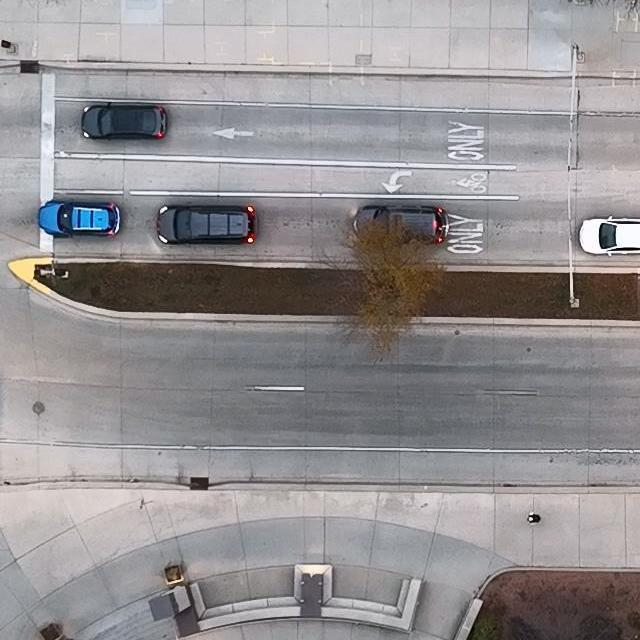car: (158, 203, 256, 245), (354, 204, 450, 244), (80, 102, 167, 140), (38, 200, 121, 238), (579, 215, 640, 257)
